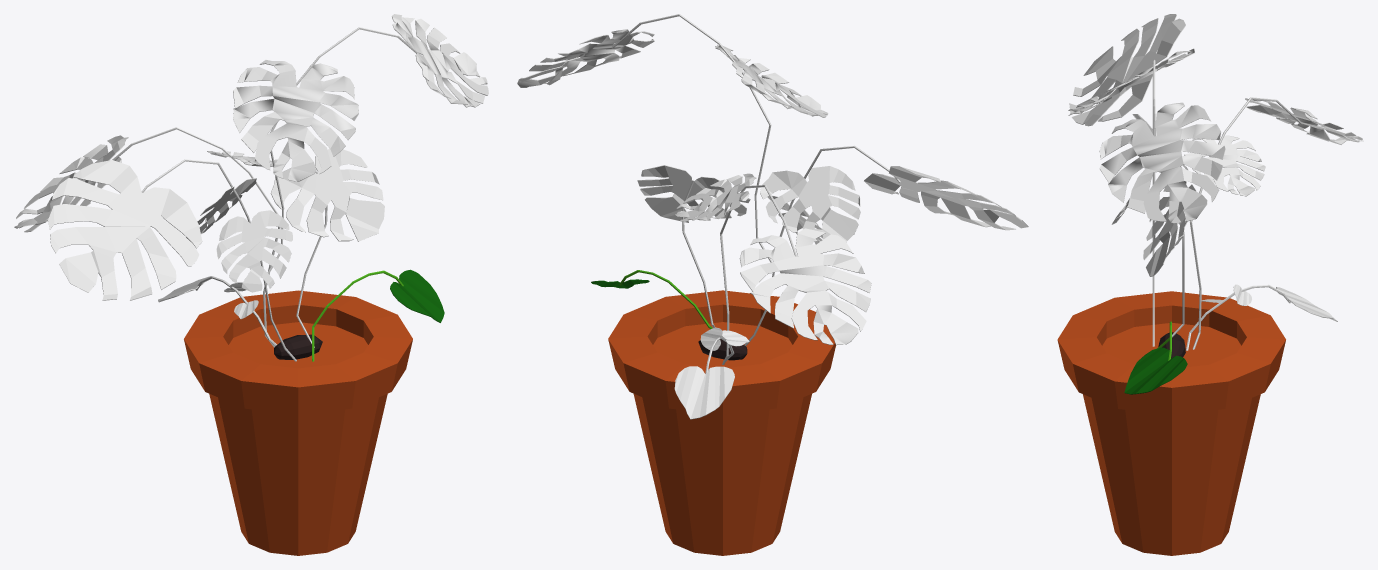
File: plant_final.FBX
The picture shows the model from 3 angles, left to right: view 1: azimuth 30°, elevation 25°; view 2: azimuth 150°, elevation 25°; view 3: azimuth 270°, elevation 25°; orthographic projection.
Visible parts, largest first — view 1: flower_pot, 4_leaf_small_2 (×2), 4_leaf, 2_leaf, 4_leaf_bigger, 3_leaf_big, 1_leaf, 4_leaf_small, 0_seed, 3_stalk, 4_stalk, 4_stalk_3; view 2: flower_pot, 3_leaf_big, 4_leaf_small, 4_leaf, 4_leaf_bigger, 2_leaf, 3_leaf_small, 4_leaf_small_2, 3_leaf, 4_stalk_3, 3_stalk; view 3: flower_pot, 4_leaf_bigger, 4_leaf, 3_leaf, 1_leaf, 2_leaf, 3_leaf_big, 4_leaf_small_2, 3_stalk, 3_leaf_small, 0_seed, 4_stalk (+1 smaller).
Part boxes in pixels (box(x1,y1,x2,y2)): flower_pot: box(184, 290, 412, 555); 4_leaf_small_2 (×2): box(216, 60, 358, 292); 4_leaf: box(48, 160, 202, 300); 2_leaf: box(270, 148, 384, 241); 4_leaf_bigger: box(392, 14, 488, 107); 3_leaf_big: box(14, 135, 128, 232); 1_leaf: box(390, 269, 444, 322); 4_leaf_small: box(186, 178, 256, 241); 0_seed: box(274, 334, 322, 359); 3_stalk: box(112, 127, 280, 347); 4_stalk: box(141, 159, 296, 361); 4_stalk_3: box(267, 27, 420, 273); flower_pot: box(608, 290, 835, 555); 3_leaf_big: box(739, 228, 871, 345); 4_leaf_small: box(760, 166, 860, 241); 4_leaf: box(864, 166, 1028, 230); 4_leaf_bigger: box(517, 29, 654, 87); 2_leaf: box(637, 165, 750, 222); 3_leaf_small: box(674, 366, 734, 419); 4_leaf_small_2: box(715, 44, 828, 117); 3_leaf: box(675, 173, 756, 221); 4_stalk_3: box(611, 14, 772, 262); 3_stalk: box(720, 185, 797, 364); flower_pot: box(1057, 291, 1285, 555); 4_leaf_bigger: box(1099, 102, 1225, 223); 4_leaf: box(1069, 14, 1185, 126); 3_leaf: box(1184, 135, 1265, 196); 1_leaf: box(1124, 347, 1187, 394); 2_leaf: box(1143, 181, 1196, 276); 3_leaf_big: box(1245, 98, 1363, 144); 4_leaf_small_2: box(1068, 48, 1194, 115); 3_stalk: box(1190, 97, 1302, 349); 3_leaf_small: box(1276, 287, 1337, 321); 0_seed: box(1158, 332, 1185, 358); 4_stalk: box(1152, 63, 1154, 346).
Bounding box in the file's own units: 67.12 × 38.69 × 69.32.
